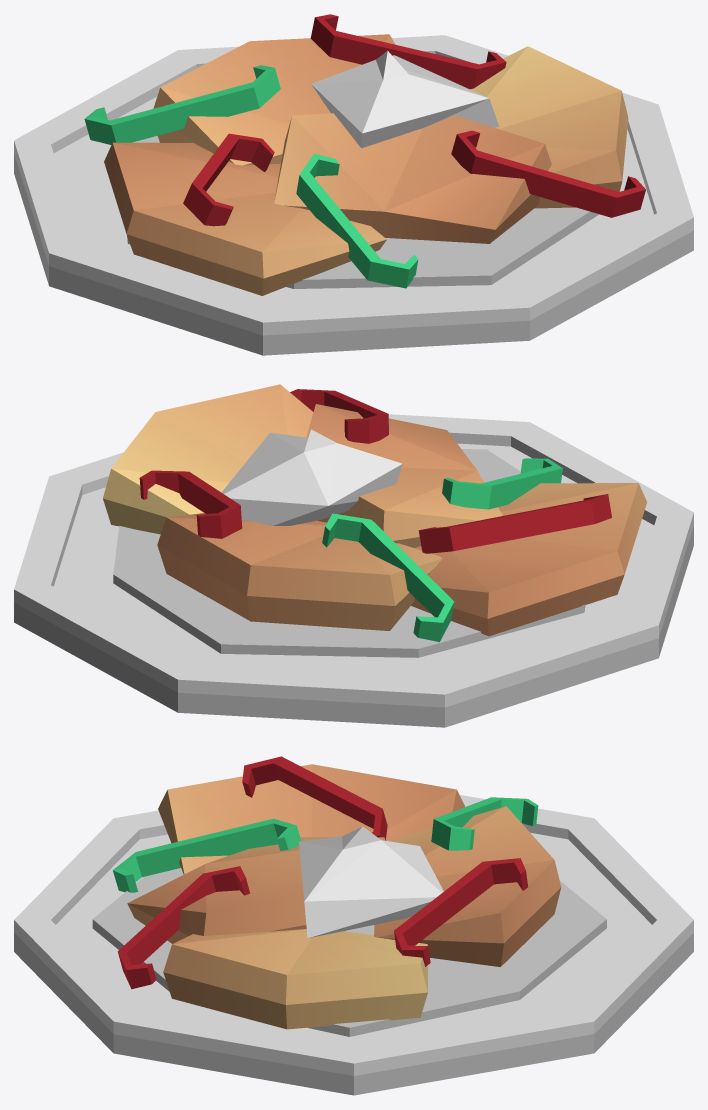
File: Food_Perogies.fbx
The picture shows the model from 3 angles, top to bottom: view 1: azimuth 30°, elevation 25°; view 2: azimuth 150°, elevation 25°; view 3: azimuth 270°, elevation 25°; orthographic projection. The views are drawn at different scales.
Visible parts, largest first — view 1: Perogies; view 2: Perogies; view 3: Perogies.
Part boxes in pixels (left/top/right/bottom): Perogies: left=14, top=14, right=693, bottom=355; Perogies: left=14, top=384, right=693, bottom=727; Perogies: left=14, top=756, right=693, bottom=1095.
Size of the model in its own units: 42.88 by 11.12 by 42.88.
